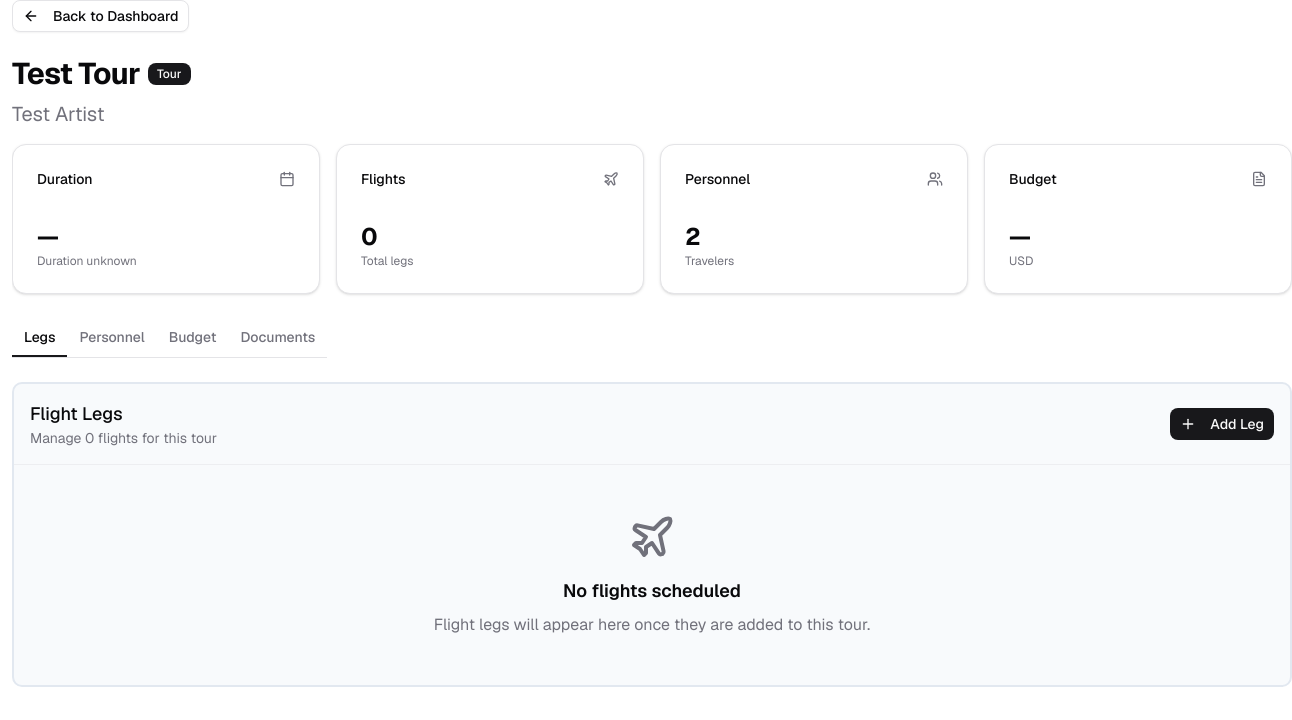
Test: Tour Page - Inline Party Selector Integration › Accessibility › should show tooltips on hover
This screenshot has width=1292, height=720.
# CONTEXT: Click Personnel tab to see personnel data
Click the tab "Personnel".
click(112, 338)  # box [68,318,157,356]
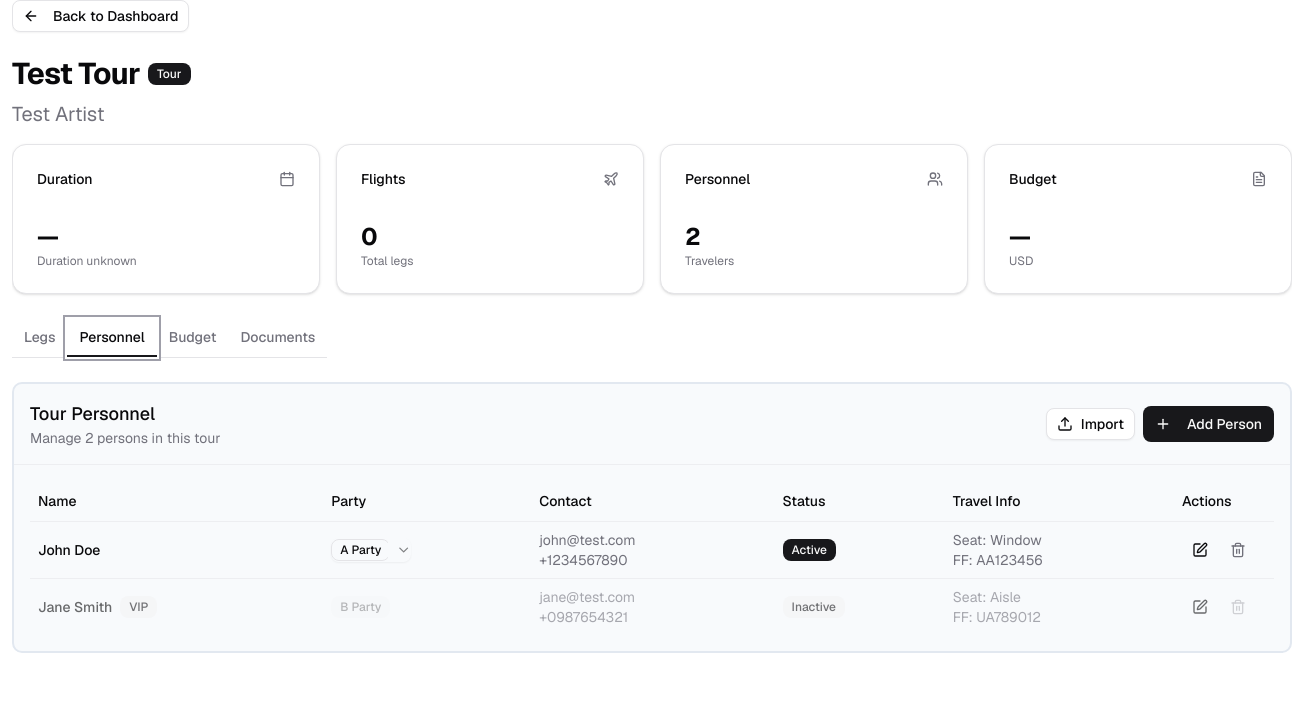
Hover over the dropdown labelled "A Party".
mouse_move(371, 550)  # box [331,538,411,562]
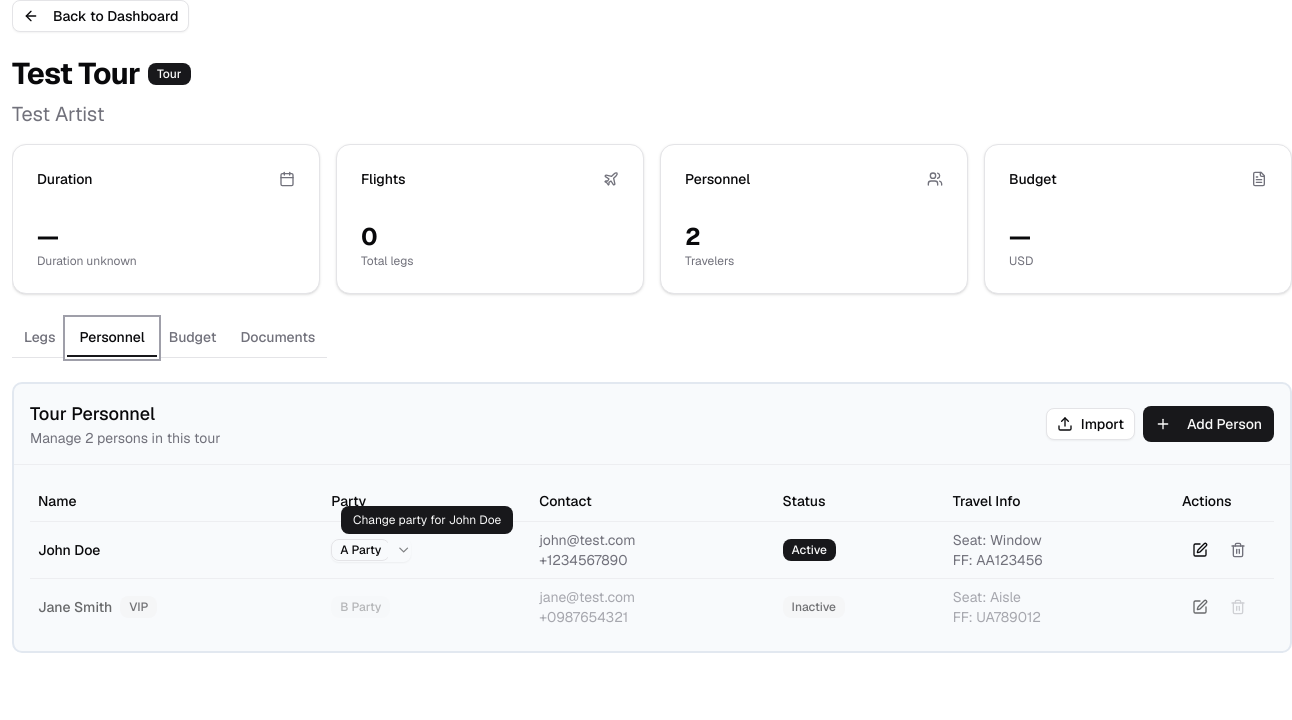
expect the text "Change party for John Doe" is shown: met, box [353,512,501,528]
